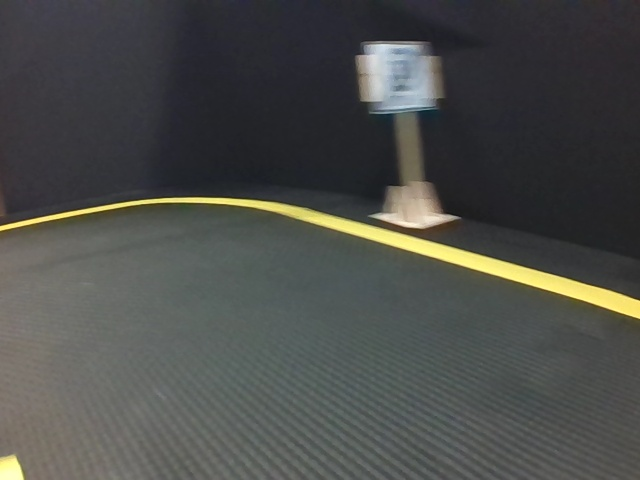no30: (369, 43, 431, 108)
